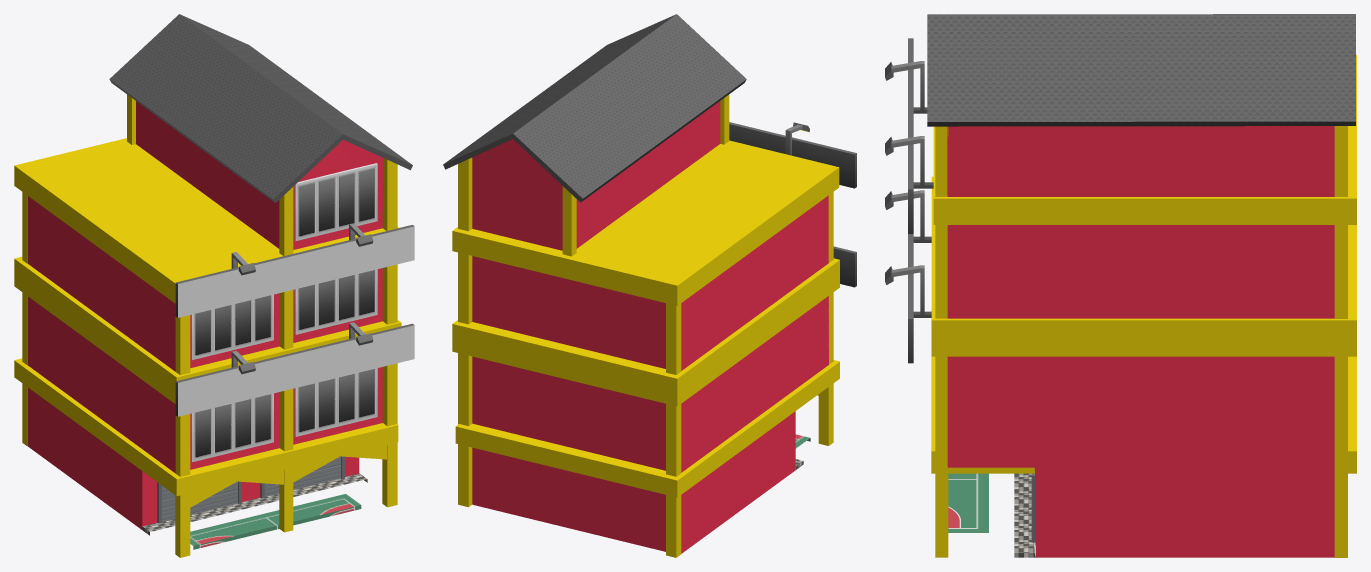
Rendered from RukoBesar5.fbx.
The picture shows the model from 3 angles, left to right: view 1: azimuth 30°, elevation 25°; view 2: azimuth 150°, elevation 25°; view 3: azimuth 270°, elevation 25°; orthographic projection. The views are drawn at different scales.
Parts seen in each view (by area): view 1: Body1RukoBesar6_LOD0, Body2RukoBesar6_LOD0, Body3RukoBesar6_LOD0; view 2: Body1RukoBesar6_LOD0, Body2RukoBesar6_LOD0, Body3RukoBesar6_LOD0; view 3: Body1RukoBesar6_LOD0, Body2RukoBesar6_LOD0, Body3RukoBesar6_LOD0.
Boxes of the visible parts, x1,y1,x2,y2 form: Body1RukoBesar6_LOD0: (27, 14, 412, 549); Body2RukoBesar6_LOD0: (14, 94, 401, 557); Body3RukoBesar6_LOD0: (175, 223, 414, 416); Body1RukoBesar6_LOD0: (443, 14, 828, 553); Body2RukoBesar6_LOD0: (452, 94, 839, 557); Body3RukoBesar6_LOD0: (729, 122, 856, 287); Body1RukoBesar6_LOD0: (927, 14, 1355, 557); Body2RukoBesar6_LOD0: (931, 55, 1356, 557); Body3RukoBesar6_LOD0: (885, 38, 933, 363).
Size of what is drawn, in the model's own units: 1298 by 1980 by 1671.
